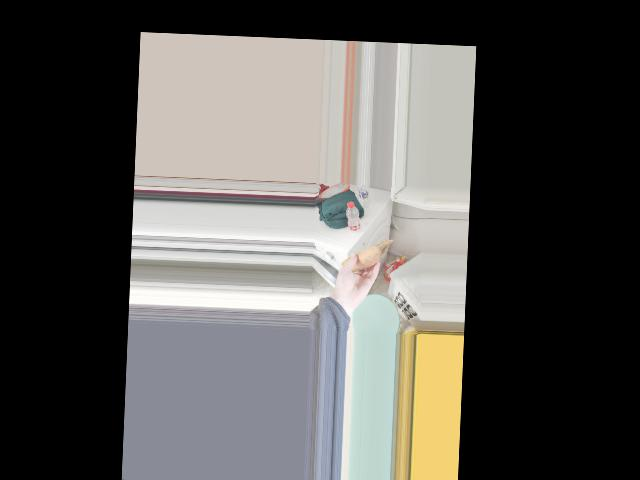sweet_potato: (345, 244, 379, 277)
